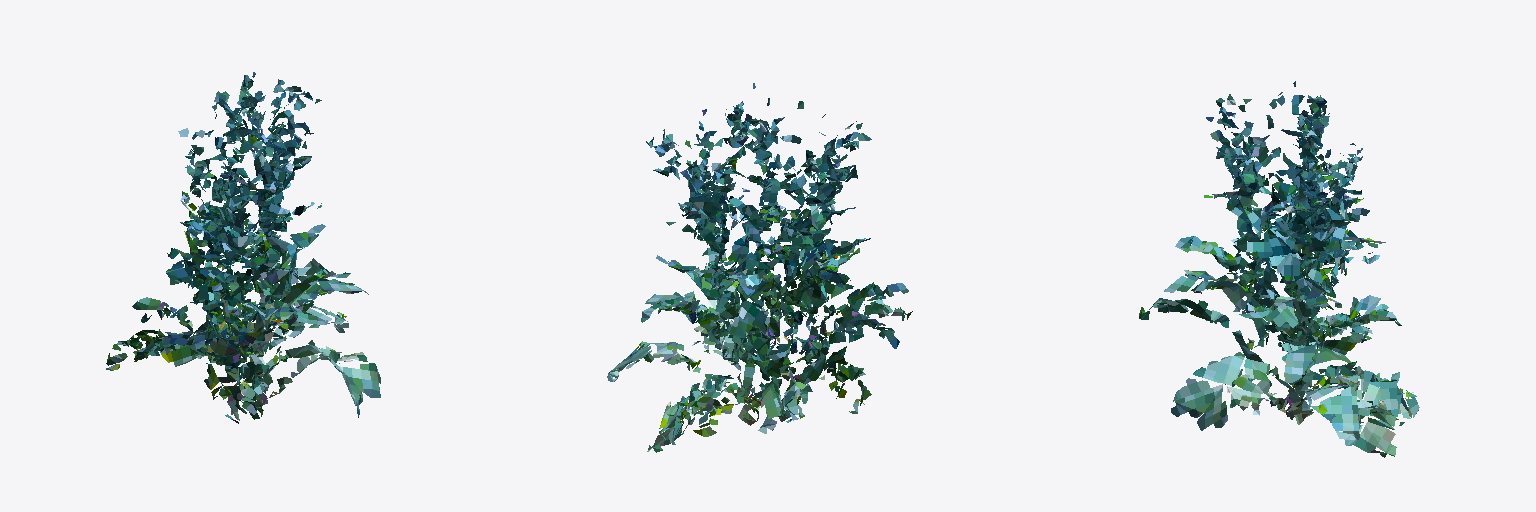
3 views of the same model, side by side, from view 1: azimuth 30°, elevation 25°; view 2: azimuth 150°, elevation 25°; view 3: azimuth 270°, elevation 25° (orthographic).
Bounding box in the file's own units: 3.86 × 5.2 × 3.77.
Materials: 1 (1 with a texture image).